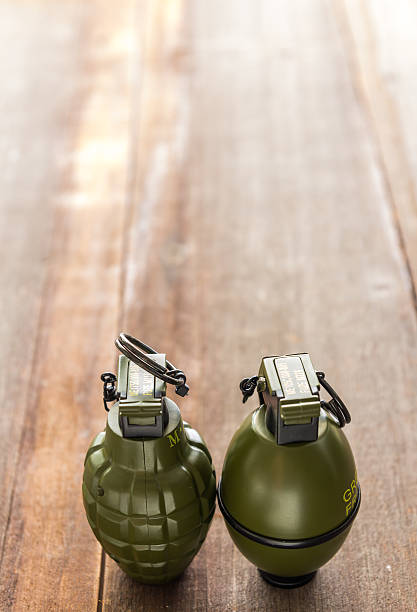e1: (81, 332, 217, 596), (220, 349, 363, 586)
